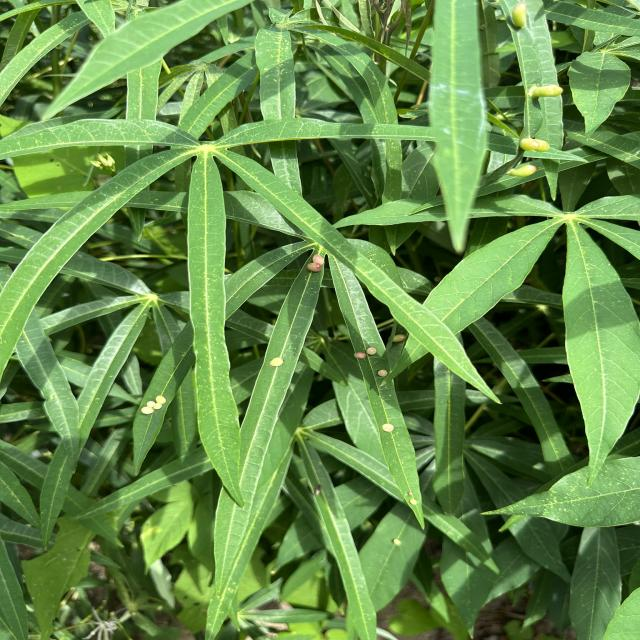Mosca: (485, 0, 542, 47), (507, 126, 565, 156), (496, 150, 545, 181), (528, 75, 574, 108), (338, 341, 388, 368), (302, 247, 338, 280), (134, 390, 171, 420), (396, 483, 427, 514), (386, 524, 413, 556), (374, 412, 396, 450), (257, 352, 294, 373), (374, 363, 410, 382)
